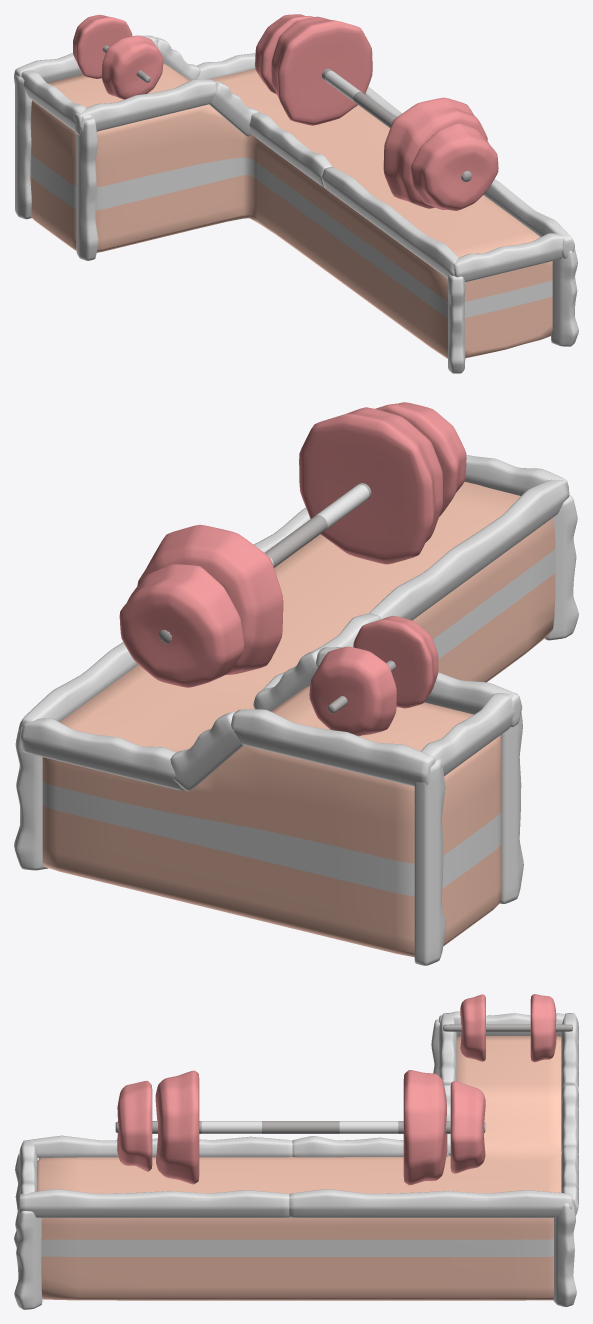
Rendered from Tower_Support_Slow.fbx.
3 views of the same model, one above another, from view 1: azimuth 30°, elevation 25°; view 2: azimuth 150°, elevation 25°; view 3: azimuth 270°, elevation 25° (orthographic). The views are drawn at different scales.
Visible parts, largest first — view 1: Cube.028, Cube.103, Cylinder.004, Cylinder.002; view 2: Cube.028, Cube.103, Cylinder.004, Cylinder.002; view 3: Cube.028, Cube.103, Cylinder.004, Cylinder.002.
Part boxes in pixels (bbox=[...]): Cube.028: bbox=[30, 63, 552, 358]; Cube.103: bbox=[14, 35, 578, 373]; Cylinder.004: bbox=[73, 14, 498, 210]; Cylinder.002: bbox=[322, 68, 471, 181]; Cube.028: bbox=[42, 481, 555, 957]; Cube.103: bbox=[14, 454, 578, 965]; Cylinder.004: bbox=[119, 402, 466, 736]; Cylinder.002: bbox=[159, 483, 371, 643]; Cube.028: bbox=[37, 1036, 561, 1300]; Cube.103: bbox=[14, 1011, 578, 1309]; Cylinder.004: bbox=[117, 994, 572, 1185]; Cylinder.002: bbox=[115, 1121, 485, 1133].
Size of the model in its own units: 172 by 110 by 276.
